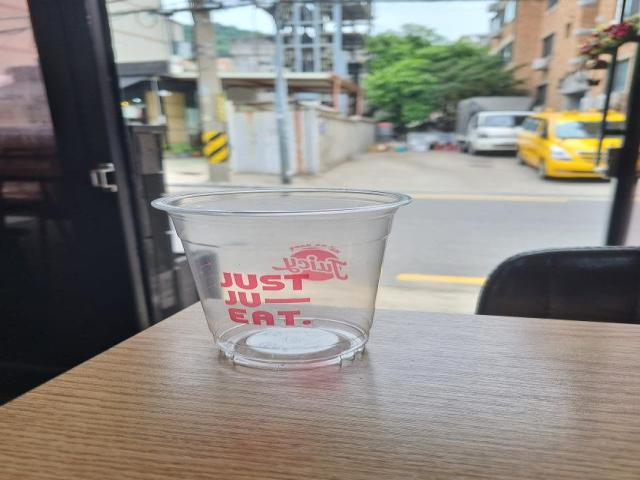cup: (144, 183, 420, 377)
